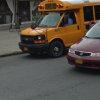Bus: (19, 1, 77, 57)
